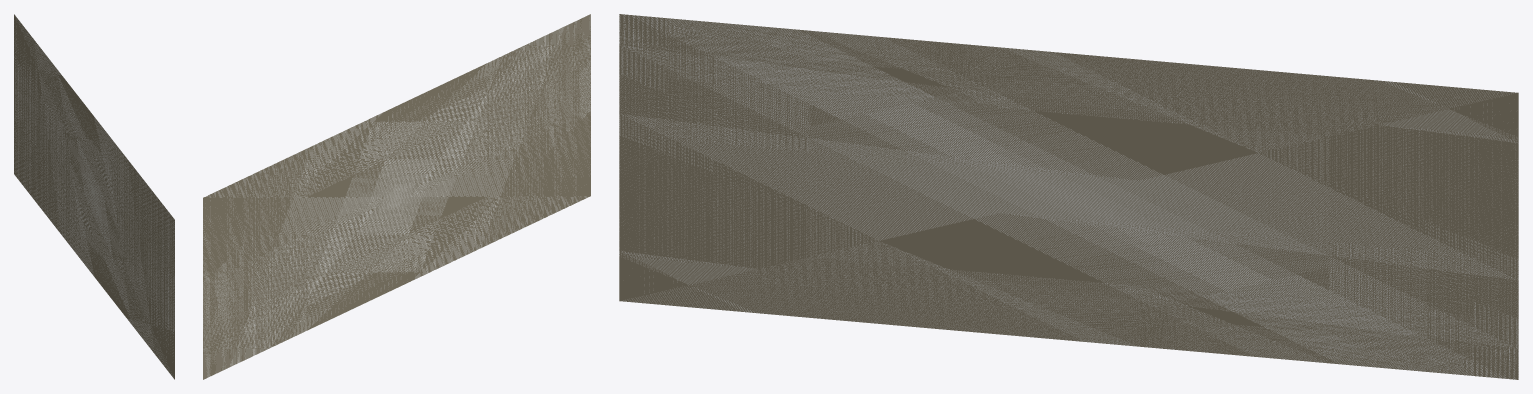
File: 大本钟93.dae
3 renders of one model, left to right at view 1: azimuth 30°, elevation 25°; view 2: azimuth 150°, elevation 25°; view 3: azimuth 270°, elevation 25°, orthographic. The views are drawn at different scales.
Parts seen in each view (by area): view 1: SketchUp; view 2: SketchUp; view 3: SketchUp.
Boxes of the visible parts, x1,y1,x2,y2 form: SketchUp: (14, 14, 174, 379); SketchUp: (203, 14, 590, 379); SketchUp: (619, 14, 1518, 379).
Bounding box in the file's own units: 8.11 × 39.11 × 13.78.
